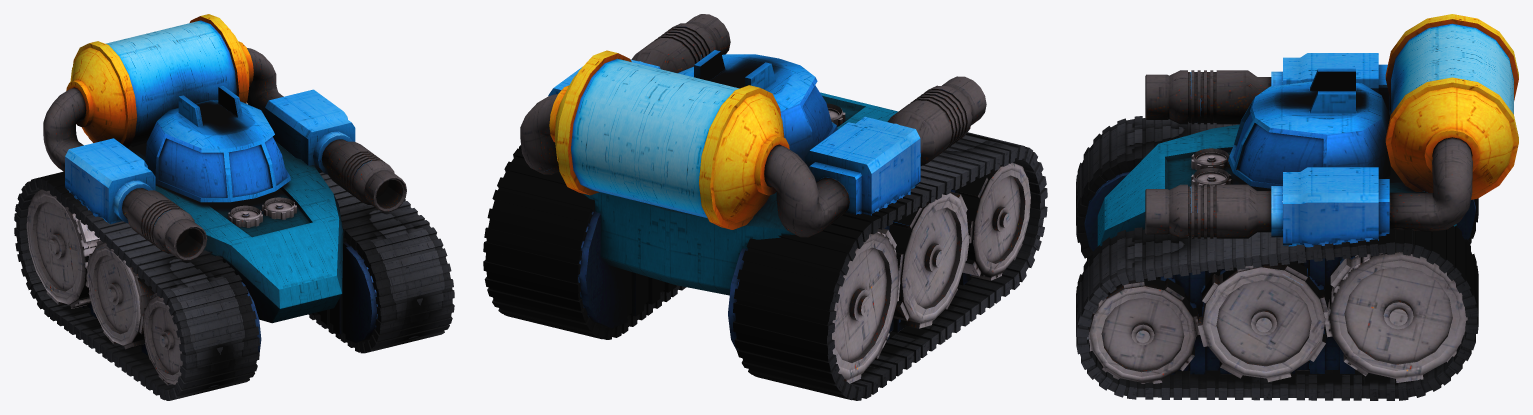
Rendered from PlayerB7.obj.
3 renders of one model, left to right at view 1: azimuth 30°, elevation 25°; view 2: azimuth 150°, elevation 25°; view 3: azimuth 270°, elevation 25°, orthographic. The views are drawn at different scales.
Visible parts, largest first — view 1: Object001, Box042, Object004, Object003, Object002; view 2: Object001, Box042, Object003, Object004, Object002; view 3: Object001, Box042, Object004, Object003, Object002.
Part boxes in pixels (bbox=[...]): Object001: bbox=[43, 14, 406, 355]; Box042: bbox=[14, 171, 454, 400]; Object004: bbox=[26, 189, 100, 308]; Object003: bbox=[87, 240, 154, 349]; Object002: bbox=[142, 293, 182, 385]; Object001: bbox=[520, 14, 986, 350]; Box042: bbox=[483, 132, 1047, 400]; Object003: bbox=[889, 192, 969, 328]; Object004: bbox=[832, 228, 900, 383]; Object002: bbox=[958, 162, 1030, 280]; Object001: bbox=[1084, 14, 1518, 374]; Box042: bbox=[1076, 116, 1478, 400]; Object004: bbox=[1324, 252, 1467, 382]; Object003: bbox=[1198, 261, 1328, 382]; Object002: bbox=[1087, 278, 1199, 383].
Size of the model in its own units: 121 by 101 by 147.
2 materials, 2 textured.
